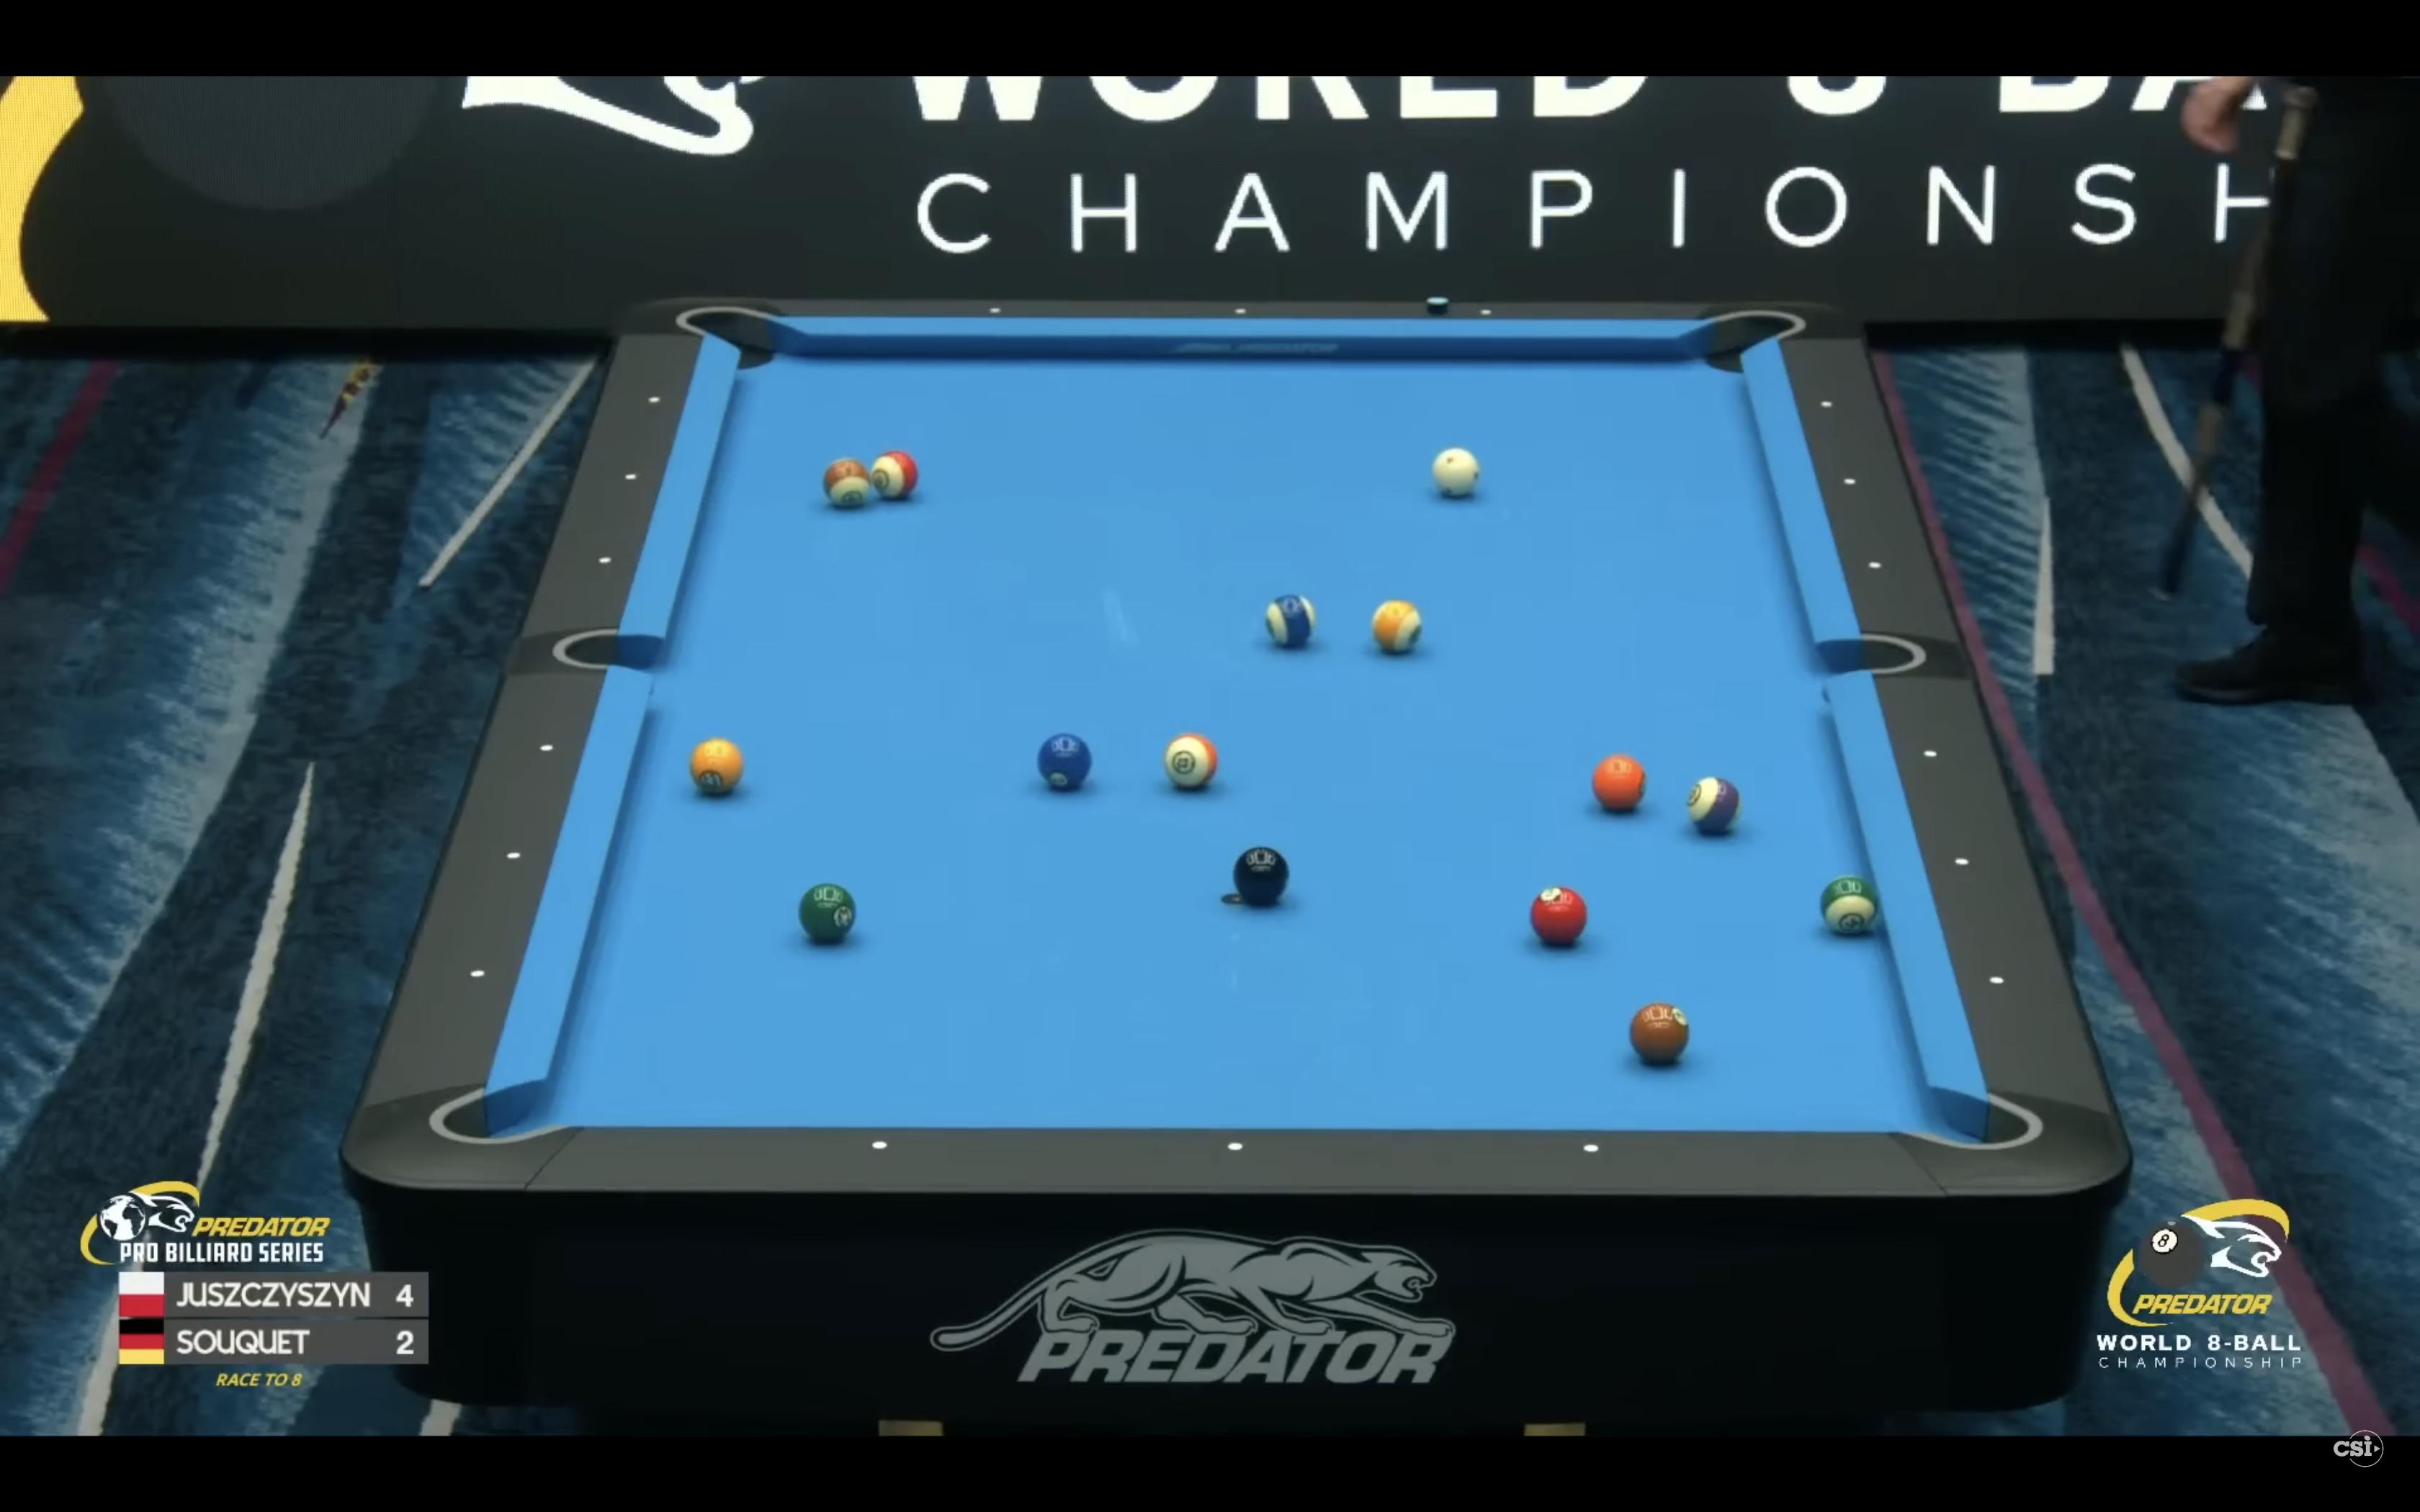Black: (1234, 847, 1289, 904)
Cue: (1432, 448, 1481, 500)
Dot: (1228, 1143, 1244, 1151), (1584, 1144, 1599, 1153), (1990, 975, 2005, 984), (873, 1141, 887, 1150), (1955, 857, 1969, 866), (1923, 749, 1937, 758), (1868, 561, 1882, 570), (648, 395, 662, 404), (1843, 477, 1856, 486), (599, 556, 612, 564), (1234, 308, 1247, 315), (540, 744, 554, 751), (507, 852, 521, 859), (470, 970, 484, 977), (1821, 401, 1833, 408), (1479, 308, 1491, 315), (990, 307, 1002, 314), (625, 474, 638, 481)
Solid: (1629, 1002, 1692, 1064), (800, 883, 857, 942), (1531, 887, 1587, 946), (1038, 733, 1092, 789), (1592, 756, 1646, 812), (692, 739, 744, 794)
Striped: (1819, 874, 1880, 937), (1164, 733, 1220, 791), (1688, 777, 1742, 831), (1265, 594, 1317, 648), (1371, 599, 1422, 653), (824, 458, 871, 509), (871, 451, 918, 500)
